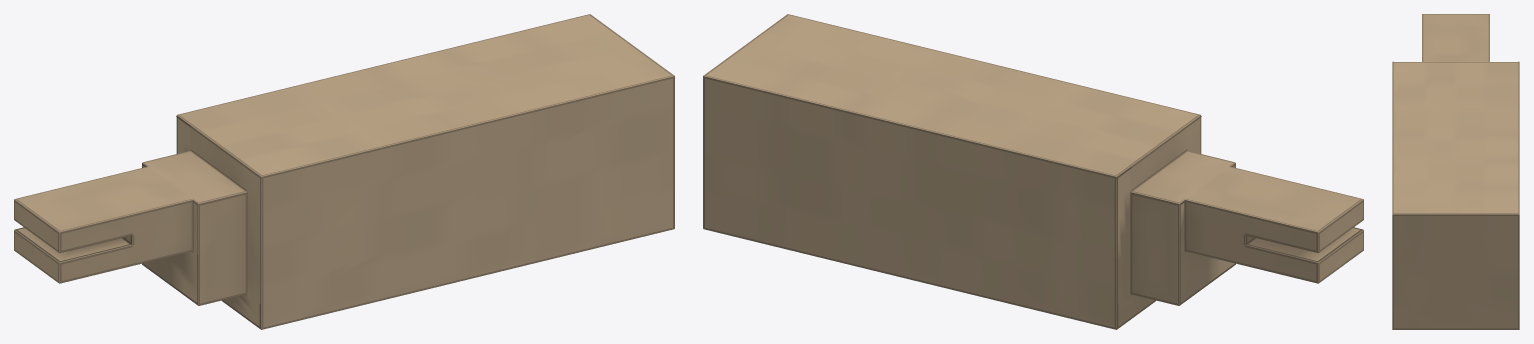
The picture shows the model from 3 angles, left to right: view 1: azimuth 30°, elevation 25°; view 2: azimuth 150°, elevation 25°; view 3: azimuth 270°, elevation 25°; orthographic projection. The views are drawn at different scales.
Parts seen in each view (by area): view 1: part-b; view 2: part-b; view 3: part-b.
Part boxes in pixels (x1,y1,x2,y2): part-b: (14, 14, 674, 329); part-b: (703, 14, 1363, 329); part-b: (1392, 14, 1519, 329).
Size of the model in its own units: 0.4908 by 0.1211 by 0.1208.
